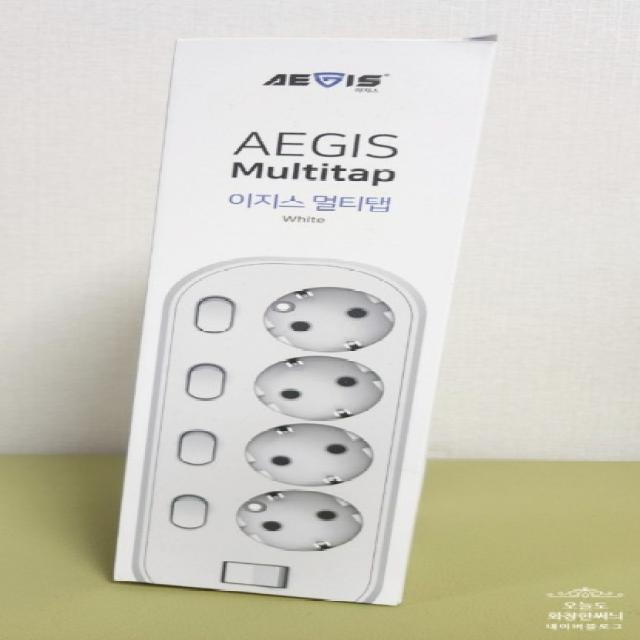typeb: (117, 242, 442, 604)
